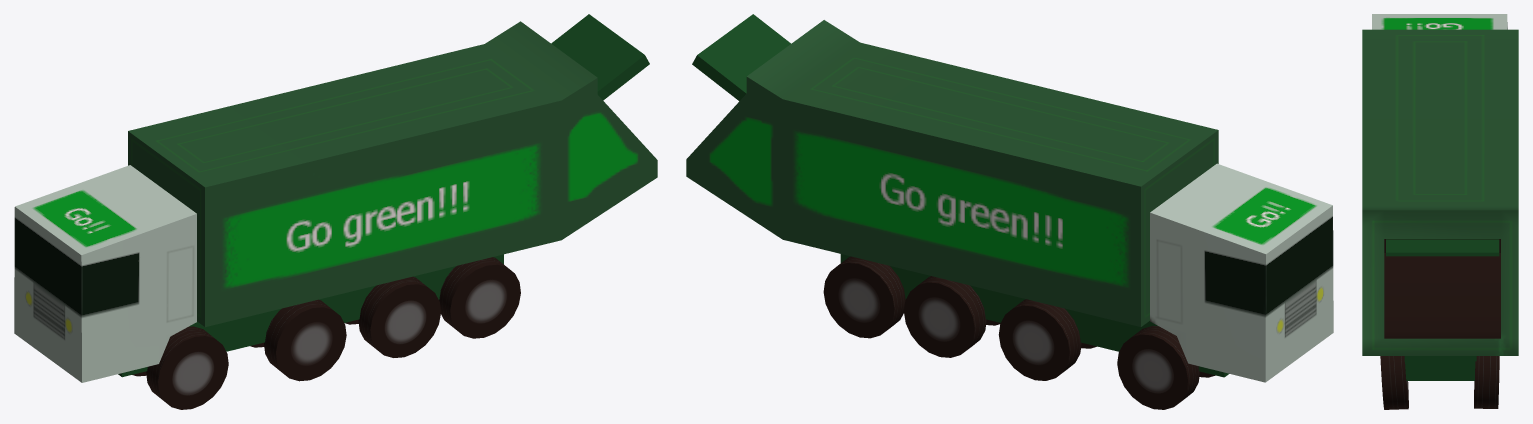
The model's file is trashtruck.fbx.
3 renders of one model, left to right at view 1: azimuth 30°, elevation 25°; view 2: azimuth 150°, elevation 25°; view 3: azimuth 270°, elevation 25°, orthographic.
Parts seen in each view (by area): view 1: polySurface1, polySurface11; view 2: polySurface1, polySurface11; view 3: polySurface1, polySurface11.
Part boxes in pixels (left/top/right/bottom): polySurface1: left=14, top=14, right=657, bottom=382; polySurface11: left=132, top=257, right=520, bottom=409; polySurface1: left=686, top=14, right=1333, bottom=382; polySurface11: left=823, top=256, right=1215, bottom=409; polySurface1: left=1362, top=14, right=1518, bottom=380; polySurface11: left=1380, top=356, right=1499, bottom=409.
Bounding box in the file's own units: 11.84 × 4.78 × 2.75.
